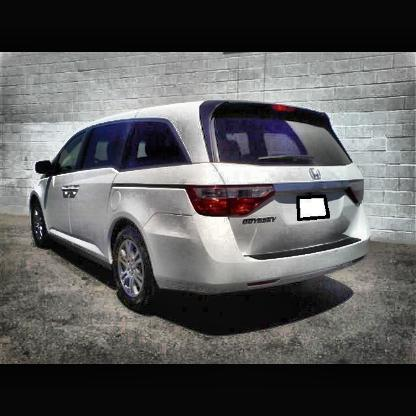Honda Odyssey Minivan 2012: (26, 94, 377, 317)
